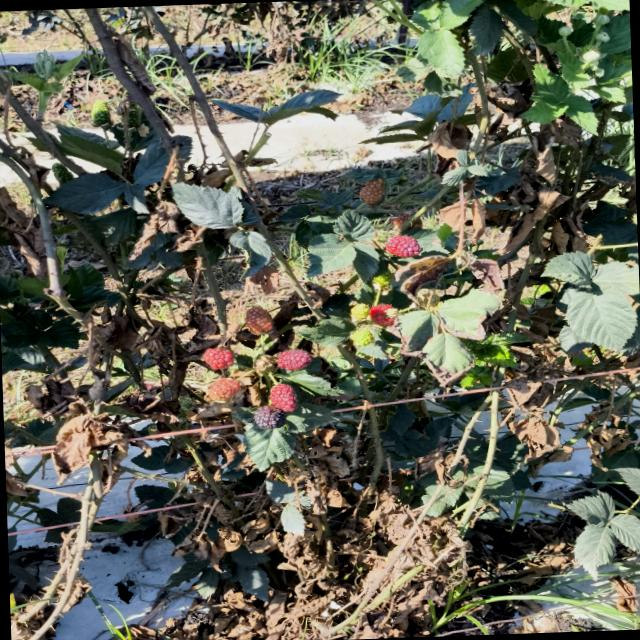maduro: (253, 405, 285, 429)
naranja: (384, 234, 421, 257), (245, 306, 273, 334), (269, 384, 297, 411), (208, 378, 240, 401), (277, 349, 312, 370), (202, 348, 233, 370), (359, 179, 384, 205), (369, 304, 397, 326)
